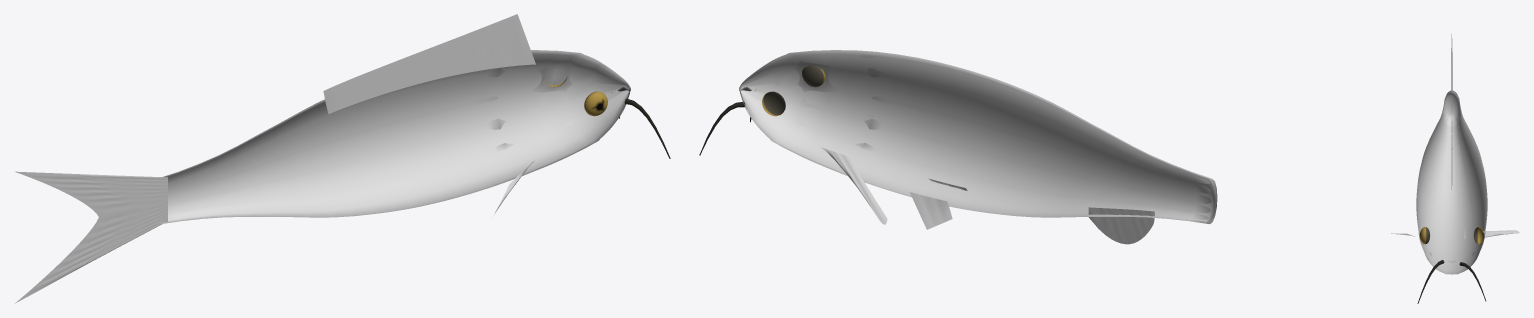
File: clanwilliam-yellowfish.glb
The picture shows the model from 3 angles, left to right: view 1: azimuth 30°, elevation 25°; view 2: azimuth 150°, elevation 25°; view 3: azimuth 270°, elevation 25°; orthographic projection. The views are drawn at different scales.
Parts seen in each view (by area): view 1: BodyLow, Fins, Body, Eyes; view 2: BodyLow, Body, Fins, Eyes; view 3: BodyLow, Body, Fins, Eyes, Extras.
Boxes of the visible parts, left/top/right/bottom form: BodyLow: left=159, top=50, right=630, bottom=224; Fins: left=15, top=14, right=535, bottom=303; Body: left=160, top=53, right=630, bottom=222; Eyes: left=545, top=77, right=607, bottom=116; BodyLow: left=739, top=50, right=1217, bottom=224; Body: left=739, top=53, right=1216, bottom=222; Fins: left=821, top=115, right=1154, bottom=244; Eyes: left=762, top=65, right=825, bottom=116; BodyLow: left=1416, top=90, right=1487, bottom=274; Body: left=1416, top=92, right=1487, bottom=274; Fins: left=1391, top=34, right=1519, bottom=238; Eyes: left=1419, top=227, right=1484, bottom=244; Extras: left=1417, top=260, right=1486, bottom=303.
Bounding box in the file's own units: 0.6768 × 0.1852 × 0.1873.
